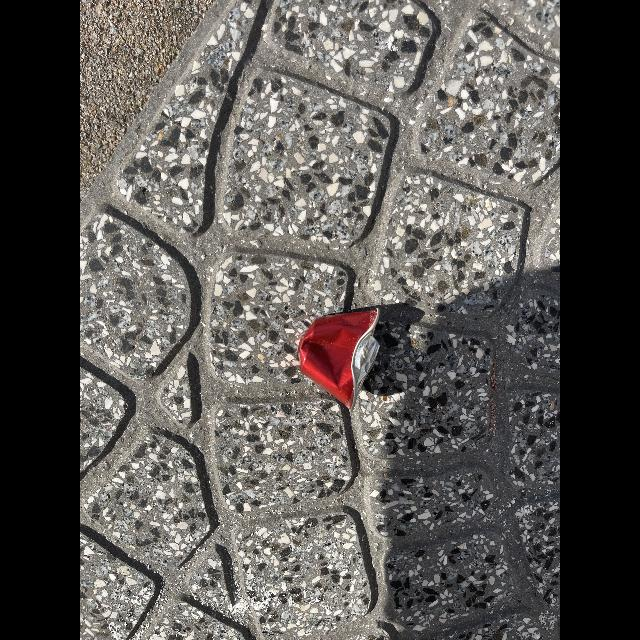damaged_capsule: (288, 300, 392, 406)
